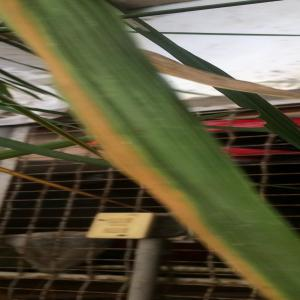Bacterial_Blight: (58, 83, 215, 207)
